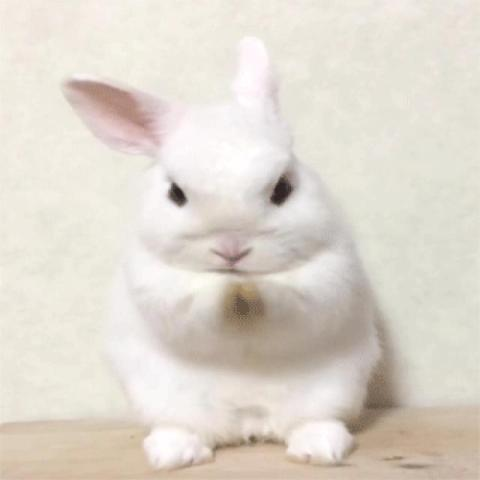small_animal: (60, 35, 406, 472)
